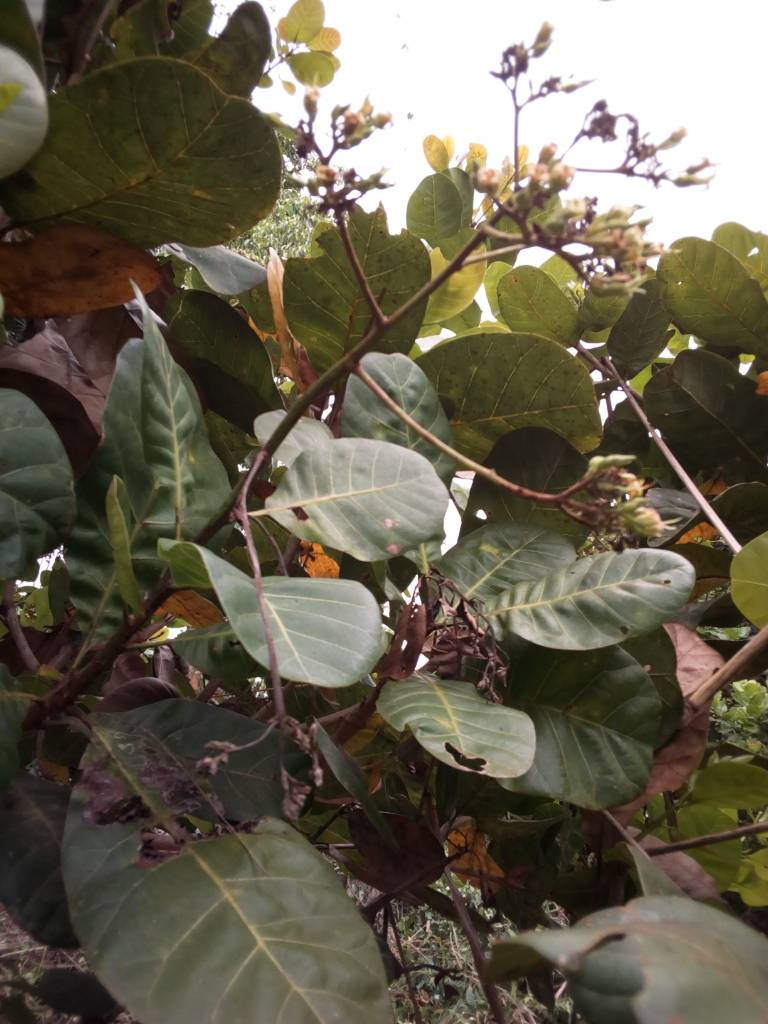Anoplonemis curvipes: (258, 421, 475, 564), (366, 660, 575, 796)
